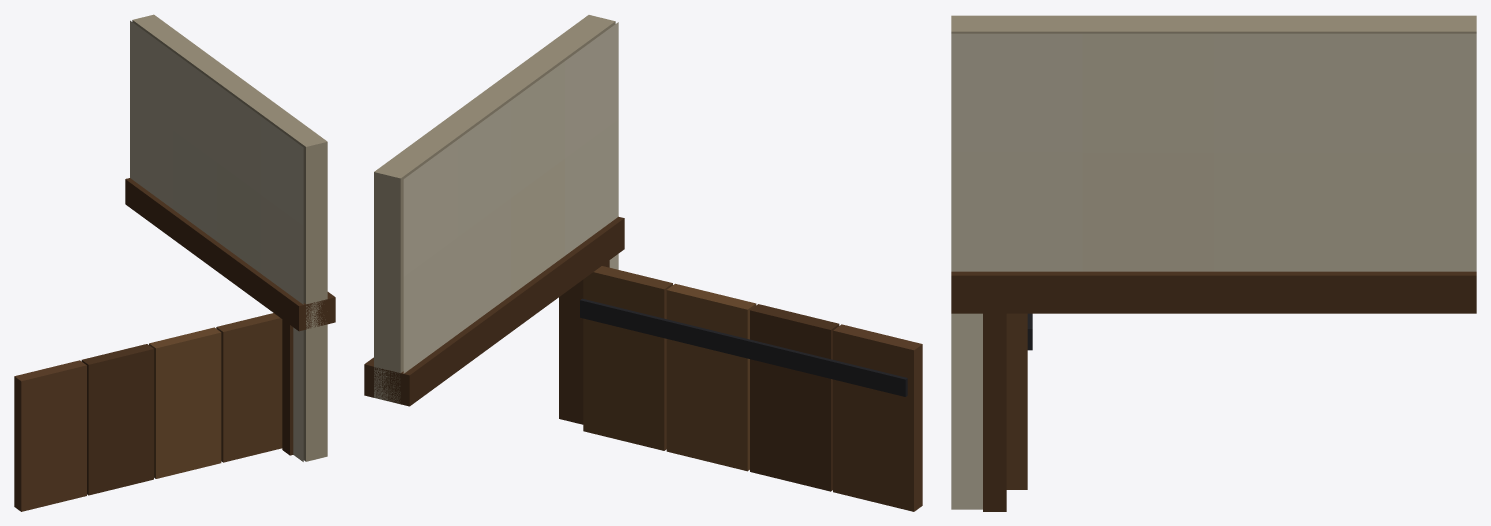
File: wall-plaster-door-open-high-r.glb
The picture shows the model from 3 angles, left to right: view 1: azimuth 30°, elevation 25°; view 2: azimuth 150°, elevation 25°; view 3: azimuth 270°, elevation 25°; orthographic projection. The views are drawn at different scales.
Parts seen in each view (by area): view 1: wall-plaster-door-open-high-r; view 2: wall-plaster-door-open-high-r; view 3: wall-plaster-door-open-high-r.
Boxes of the visible parts, x1,y1,x2,y2 form: wall-plaster-door-open-high-r: [14, 14, 335, 511]; wall-plaster-door-open-high-r: [364, 15, 922, 511]; wall-plaster-door-open-high-r: [951, 15, 1476, 511].
Size of the model in its own units: 0.984 by 1 by 1.
